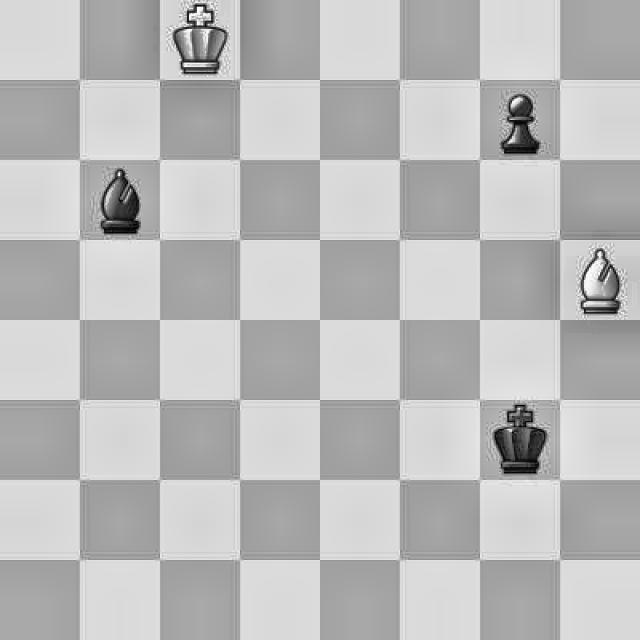black bishop: (80, 162, 155, 234)
black king: (483, 397, 556, 478)
black pawn: (480, 86, 557, 161)
white bishop: (561, 240, 640, 318)
white king: (160, 2, 236, 78)
